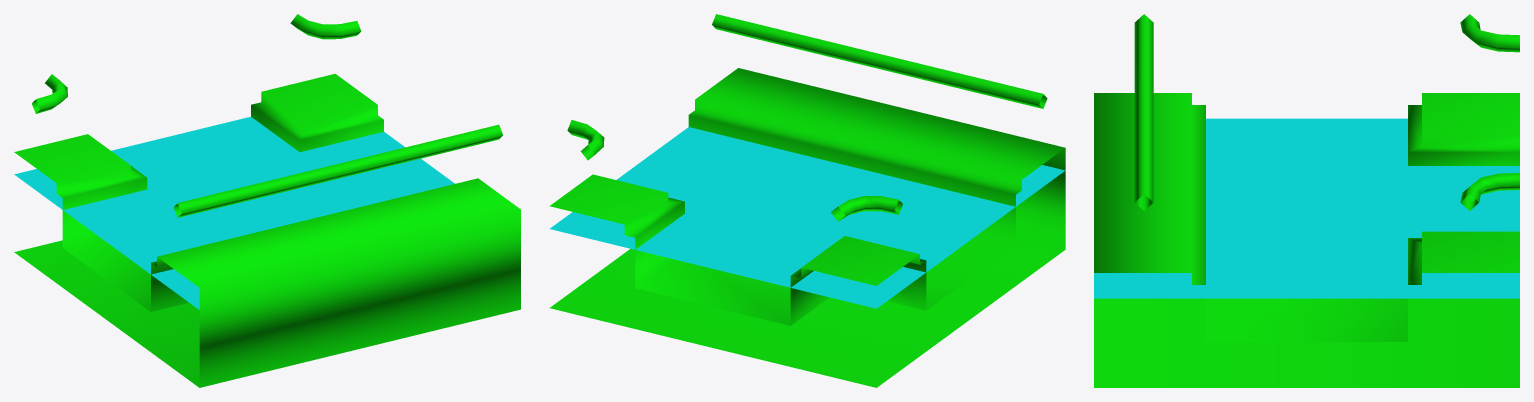
Rendered from TPiece.fbx.
3 views of the same model, side by side, from view 1: azimuth 30°, elevation 25°; view 2: azimuth 150°, elevation 25°; view 3: azimuth 270°, elevation 25° (orthographic). The views are drawn at different scales.
Visible parts, largest first — view 1: TPiece_geo; view 2: TPiece_geo; view 3: TPiece_geo.
Part boxes in pixels (x1,y1,x2,y2): TPiece_geo: (14, 14, 520, 387); TPiece_geo: (549, 14, 1065, 387); TPiece_geo: (1094, 14, 1519, 387).
Size of the model in its own units: 171 by 85.93 by 171.
